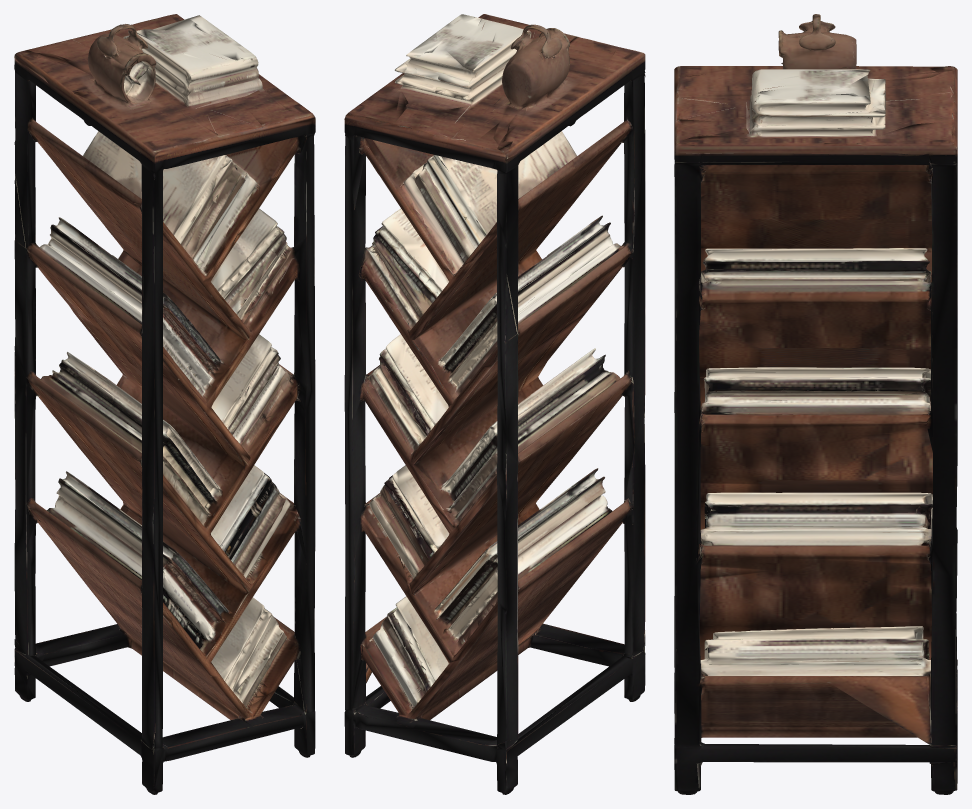
The model's file is meshy-target-1010820888.glb.
3 renders of one model, left to right at view 1: azimuth 30°, elevation 25°; view 2: azimuth 150°, elevation 25°; view 3: azimuth 270°, elevation 25°, orthographic.
Parts seen in each view (by area): view 1: Exact catalog scale: target-1010820888; view 2: Exact catalog scale: target-1010820888; view 3: Exact catalog scale: target-1010820888.
Boxes of the visible parts, <box> form: Exact catalog scale: target-1010820888: <box>14,14,315,794</box>; Exact catalog scale: target-1010820888: <box>344,14,645,794</box>; Exact catalog scale: target-1010820888: <box>674,14,957,794</box>.
Size of the model in its own units: 0.254 by 1.07 by 0.381.
Materials: 1 (1 with a texture image).
